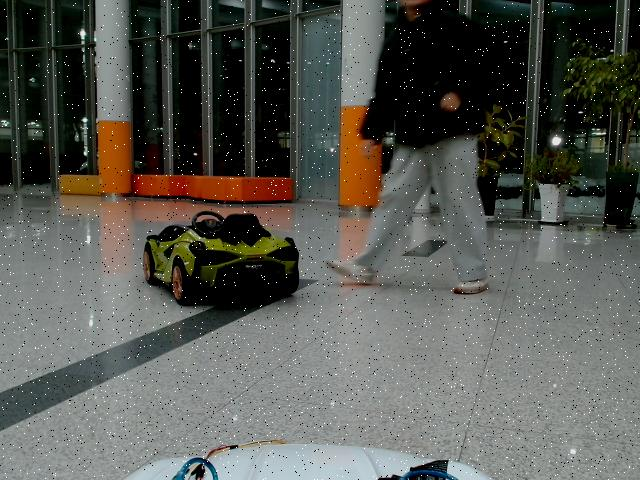car: (143, 211, 301, 305)
